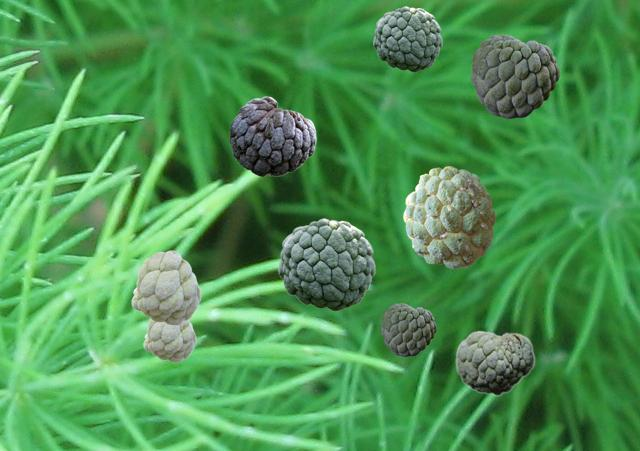atis: (403, 166, 494, 267), (278, 218, 374, 310), (471, 34, 558, 117), (229, 96, 315, 175), (455, 330, 534, 395), (131, 250, 200, 324), (373, 6, 441, 71), (381, 303, 435, 355), (143, 319, 195, 361)
